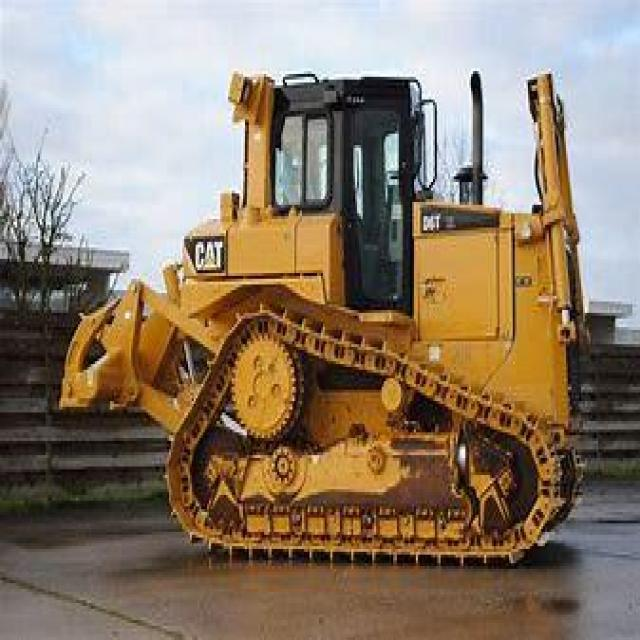Bulldozer: (44, 51, 594, 578)
